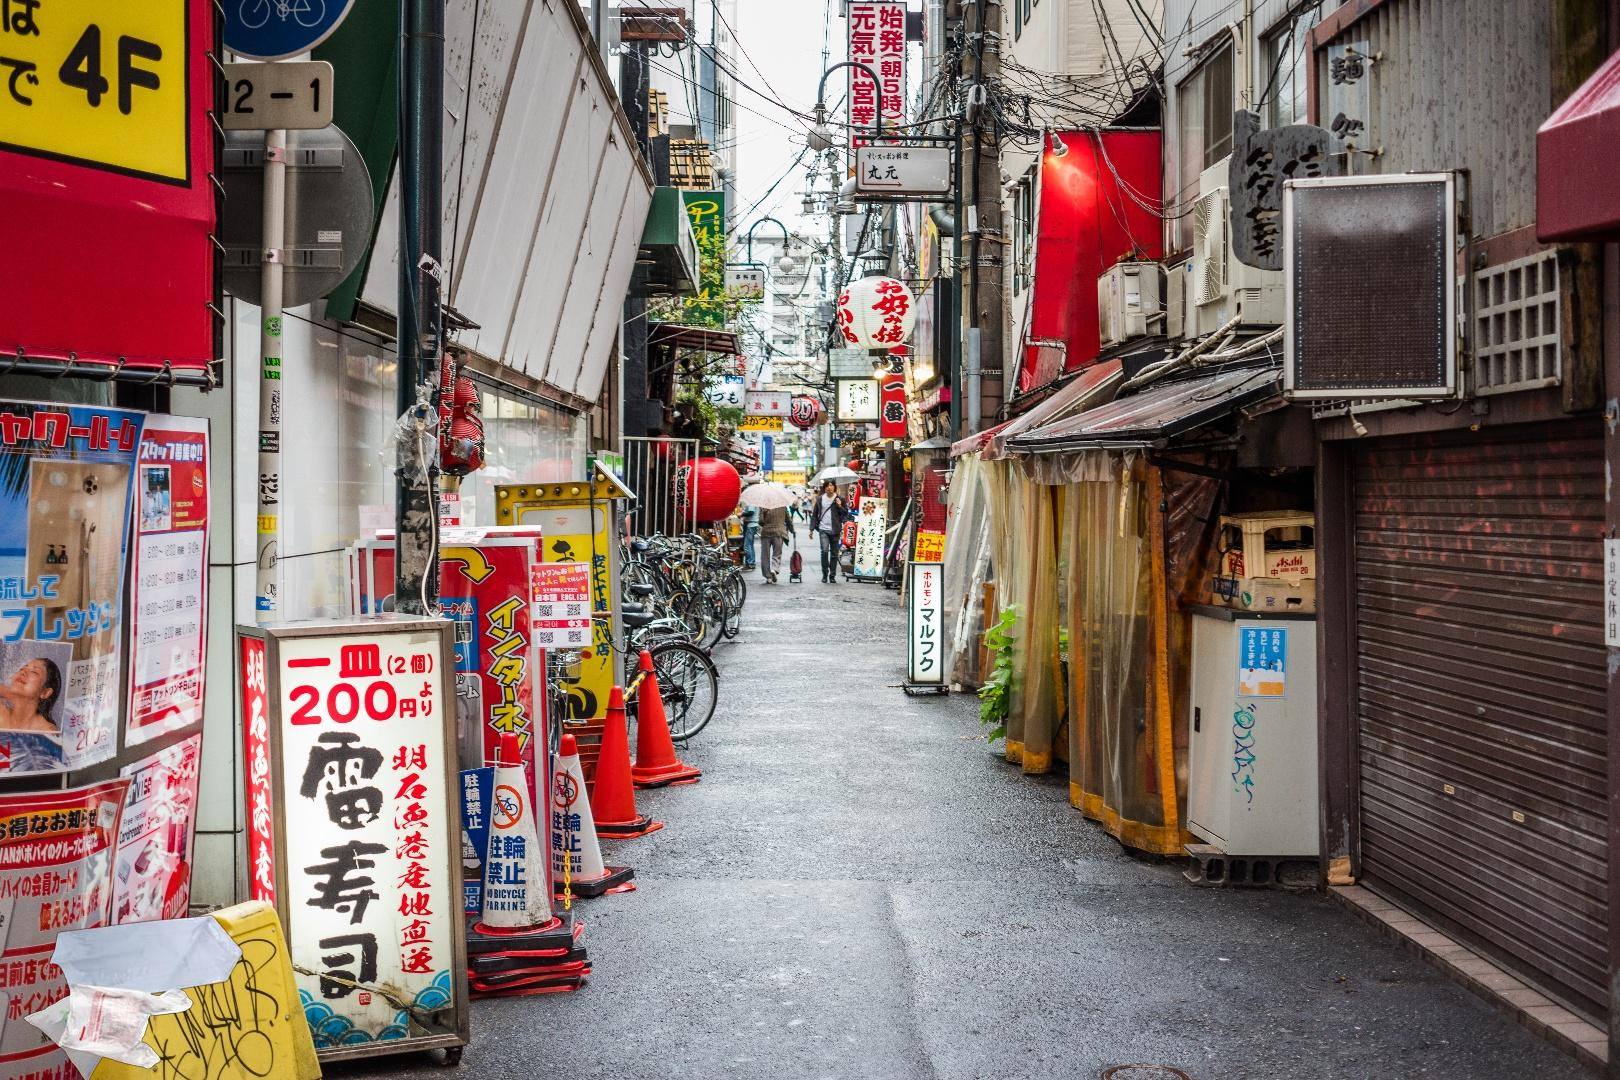plastic-bag: (22, 912, 244, 1080)
